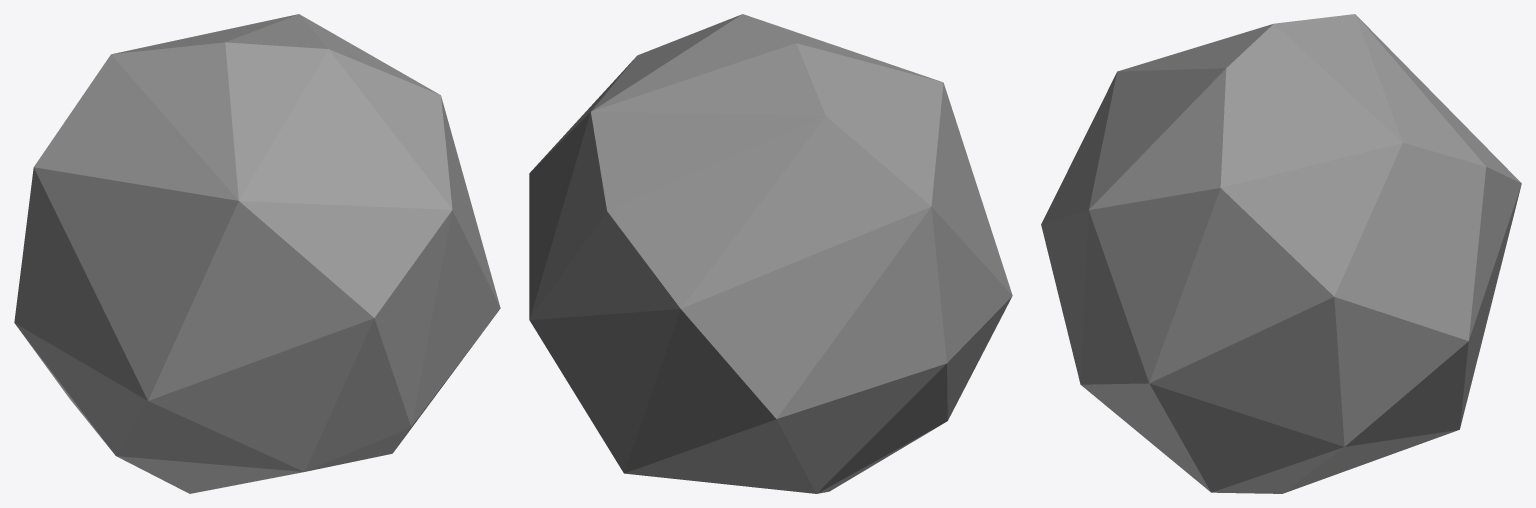
File: Bullet.obj
The picture shows the model from 3 angles, left to right: view 1: azimuth 30°, elevation 25°; view 2: azimuth 150°, elevation 25°; view 3: azimuth 270°, elevation 25°; orthographic projection. The views are drawn at different scales.
Parts seen in each view (by area): view 1: Bullet; view 2: Bullet; view 3: Bullet.
Part boxes in pixels (x1,y1,x2,y2): Bullet: [14, 14, 500, 493]; Bullet: [529, 14, 1012, 493]; Bullet: [1041, 14, 1521, 493].
Bounding box in the file's own units: 0.2982 × 0.3012 × 0.3066.
Materials: 1 (1 with a texture image).
